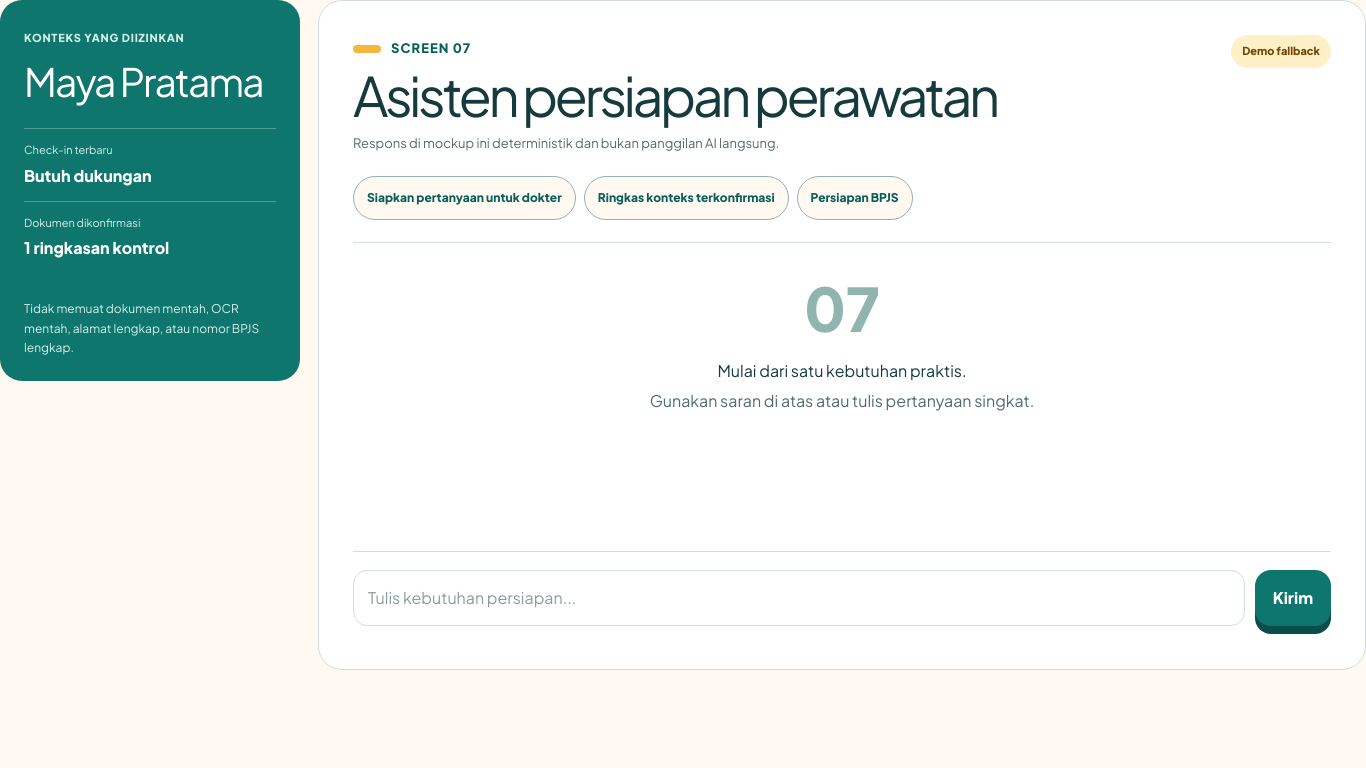
Test case: connected Caregiver flow › labels assistant output as deterministic demo fallback
Expected: the text "Demo fallback" is shown, [1231,35,1331,68]
Click the button "Siapkan pertanyaan untuk dokter" at (464, 198), box [353,176,576,220]
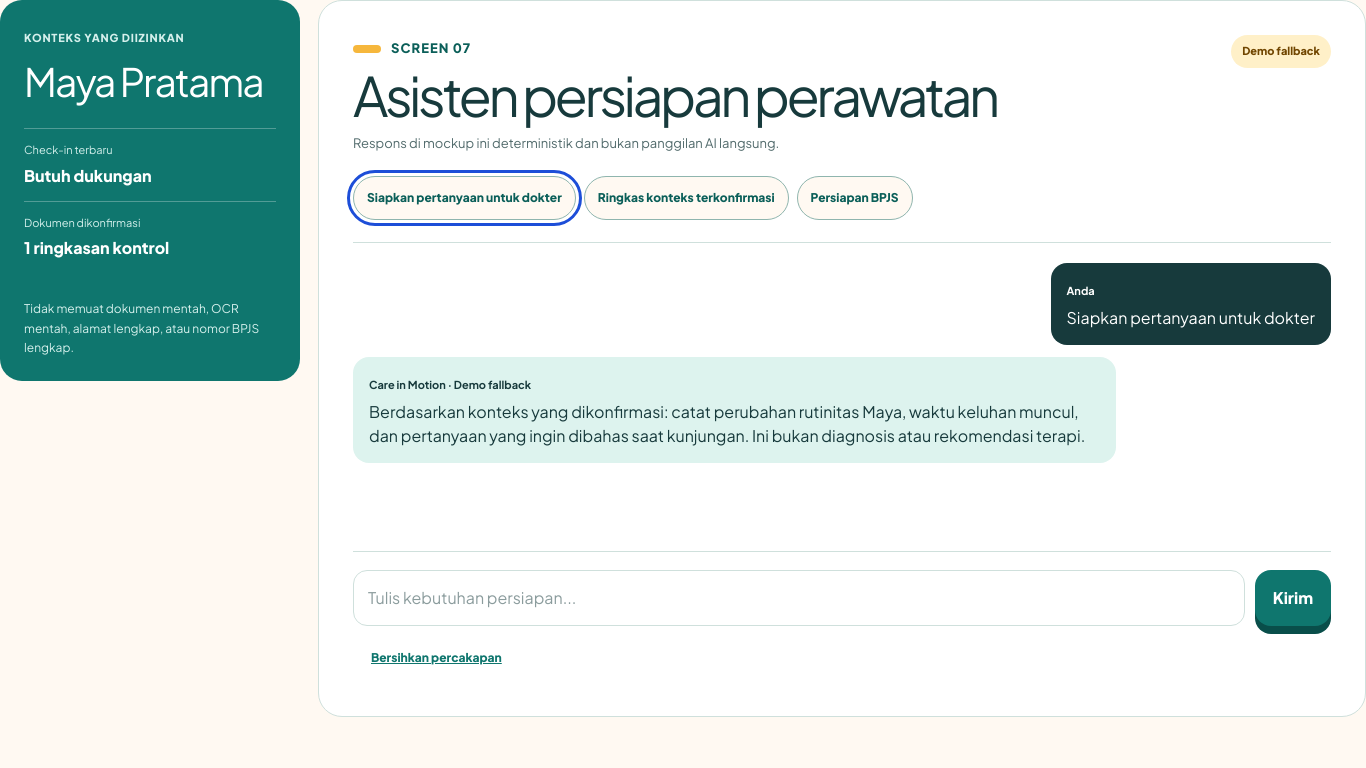
Now the text "bukan diagnosis atau rekomendasi terapi" is shown, box [369,401,1085,446]
